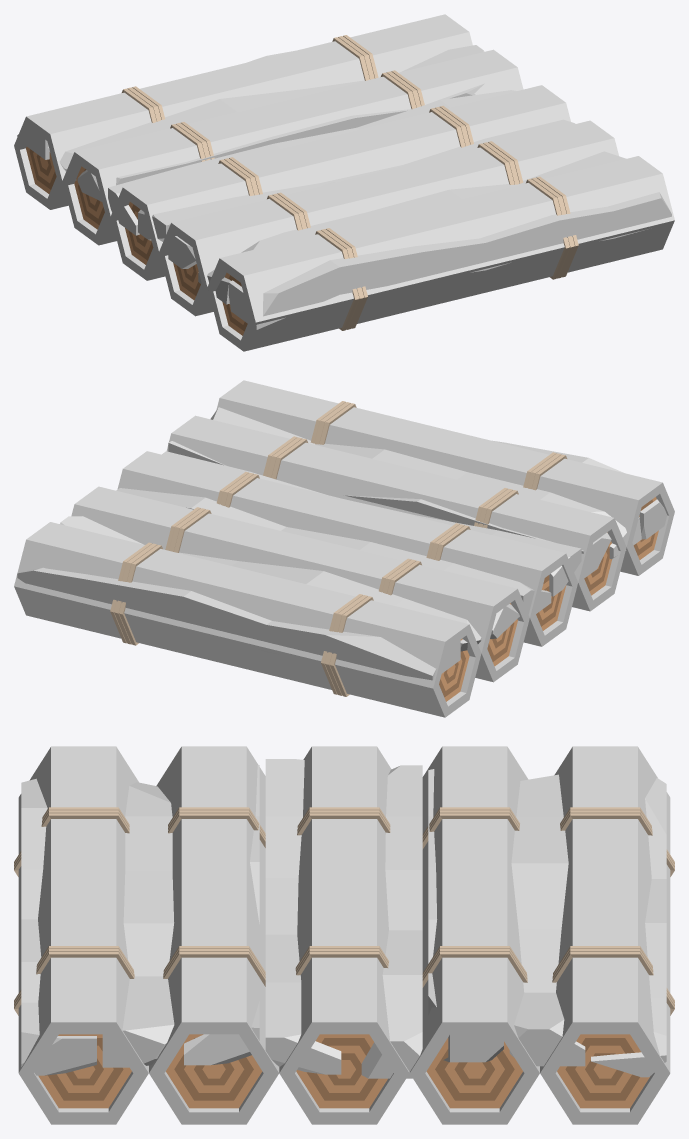
Rendered from Raft.fbx.
3 renders of one model, top to bottom at view 1: azimuth 30°, elevation 25°; view 2: azimuth 150°, elevation 25°; view 3: azimuth 270°, elevation 25°, orthographic. The views are drawn at different scales.
Visible parts, largest first — view 1: LogRaft, WoodRaft, LogRope, LogFace, LogFaceTex; view 2: LogRaft, WoodRaft, LogRope, LogFace, LogFaceTex; view 3: LogRaft, WoodRaft, LogRope, LogFace, LogFaceTex.
Boxes of the visible parts, x1=… form: LogRaft: x1=14, y1=14, x2=674, y2=351; WoodRaft: x1=17, y1=45, x2=671, y2=329; LogRope: x1=121, y1=35, x2=578, y2=330; LogFace: x1=26, y1=146, x2=244, y2=335; LogFaceTex: x1=29, y1=149, x2=247, y2=331; LogRaft: x1=14, y1=380, x2=674, y2=717; WoodRaft: x1=17, y1=407, x2=667, y2=680; LogRope: x1=110, y1=401, x2=567, y2=696; LogFace: x1=440, y1=497, x2=658, y2=701; LogFaceTex: x1=439, y1=499, x2=655, y2=697; LogRaft: x1=18, y1=746, x2=670, y2=1124; WoodRaft: x1=21, y1=759, x2=666, y2=1078; LogRope: x1=14, y1=807, x2=674, y2=1015; LogFace: x1=38, y1=1034, x2=650, y2=1108; LogFaceTex: x1=48, y1=1038, x2=639, y2=1100.
Size of the model in its own units: 400 by 74.04 by 405.
